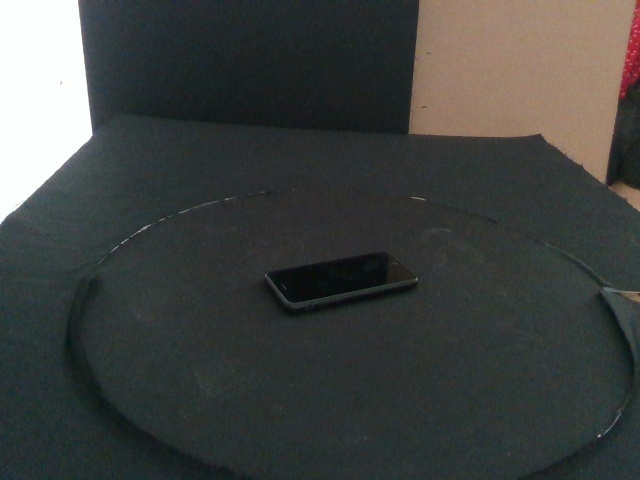phone: (264, 251, 419, 310)
